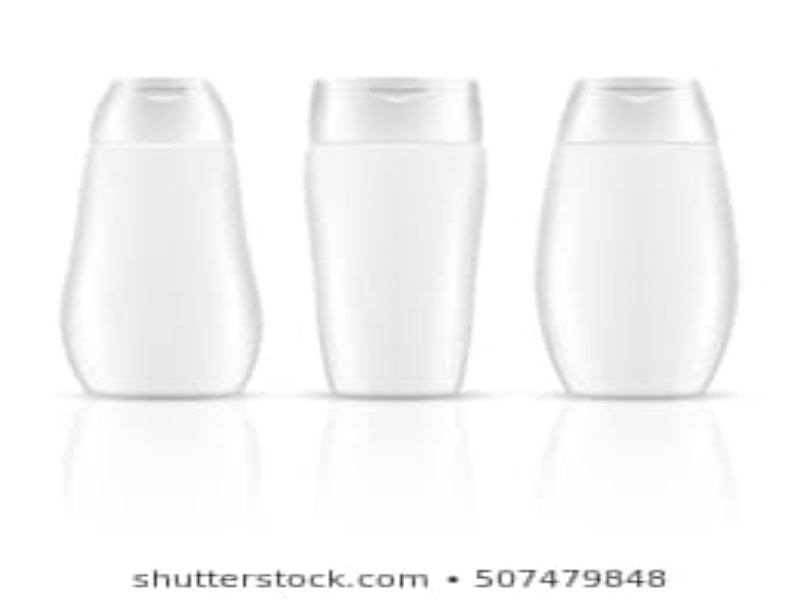shampoo-bottle: (51, 74, 267, 400), (530, 70, 738, 404), (302, 70, 497, 401)
